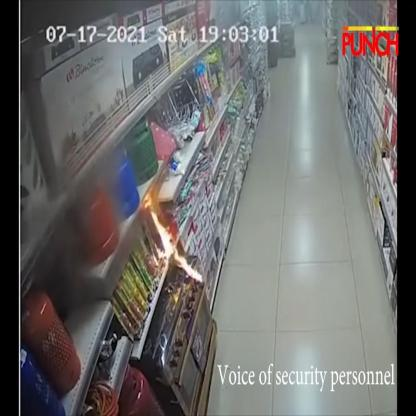fire: (144, 194, 173, 259), (174, 250, 202, 282)
